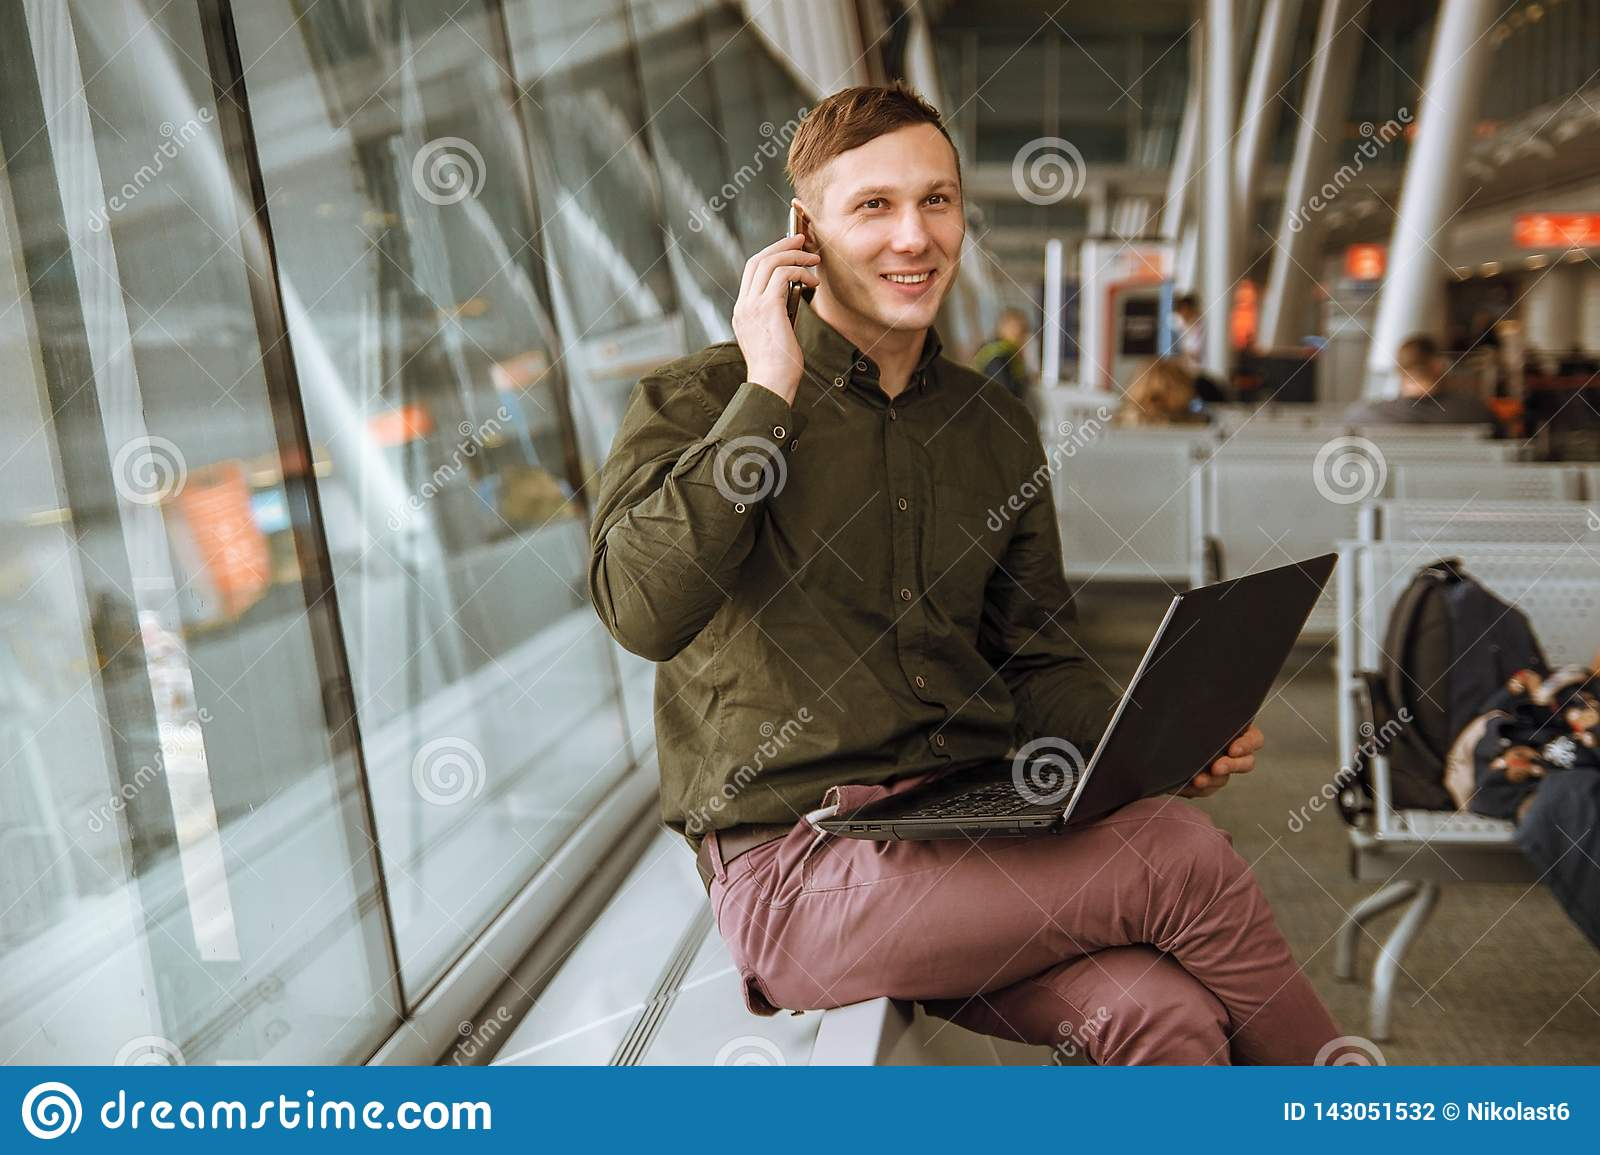phone: (786, 199, 802, 338)
talk: (727, 168, 968, 383)
